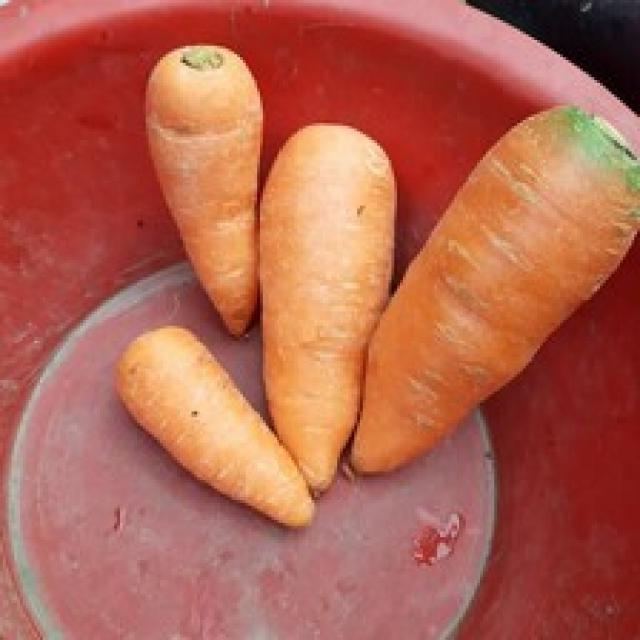carrot: (352, 104, 639, 477), (261, 122, 399, 490), (113, 327, 315, 534), (147, 40, 261, 337)
